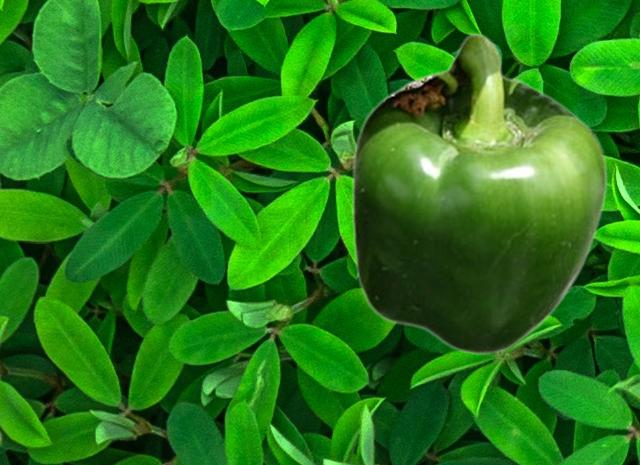bell_pepper: (350, 32, 607, 355)
